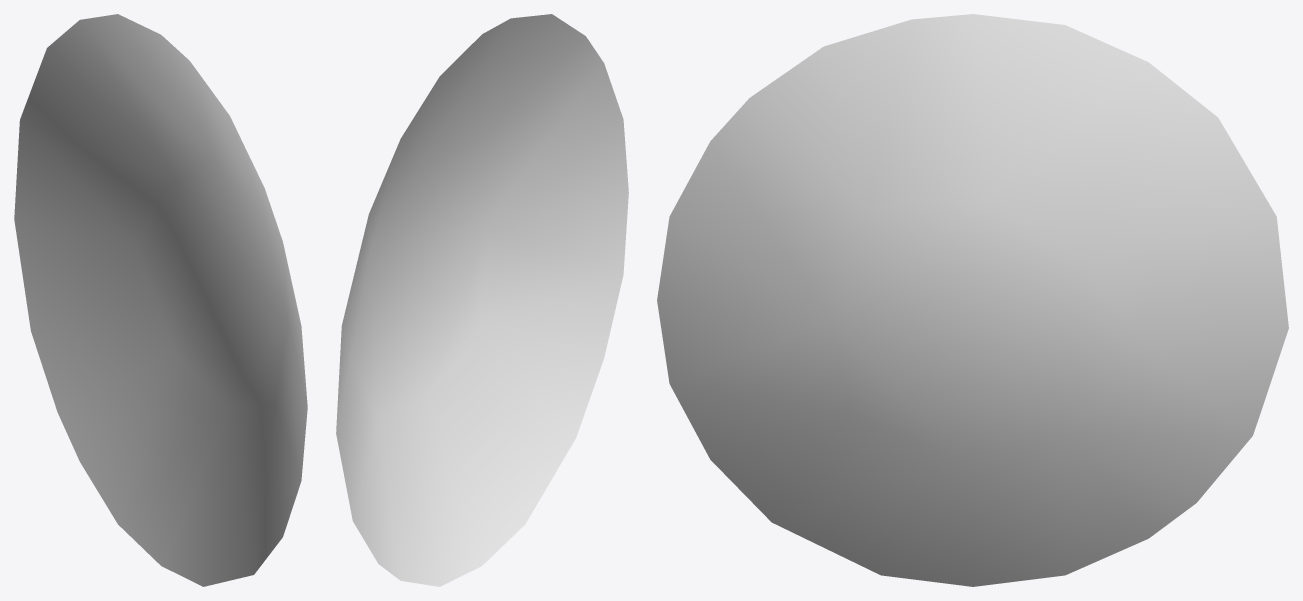
3 renders of one model, left to right at view 1: azimuth 30°, elevation 25°; view 2: azimuth 150°, elevation 25°; view 3: azimuth 270°, elevation 25°, orthographic. The views are drawn at different scales.
Size of the model in its own units: 0.0316 by 0.2531 by 0.2529.
Materials: 1 (1 with a texture image).
